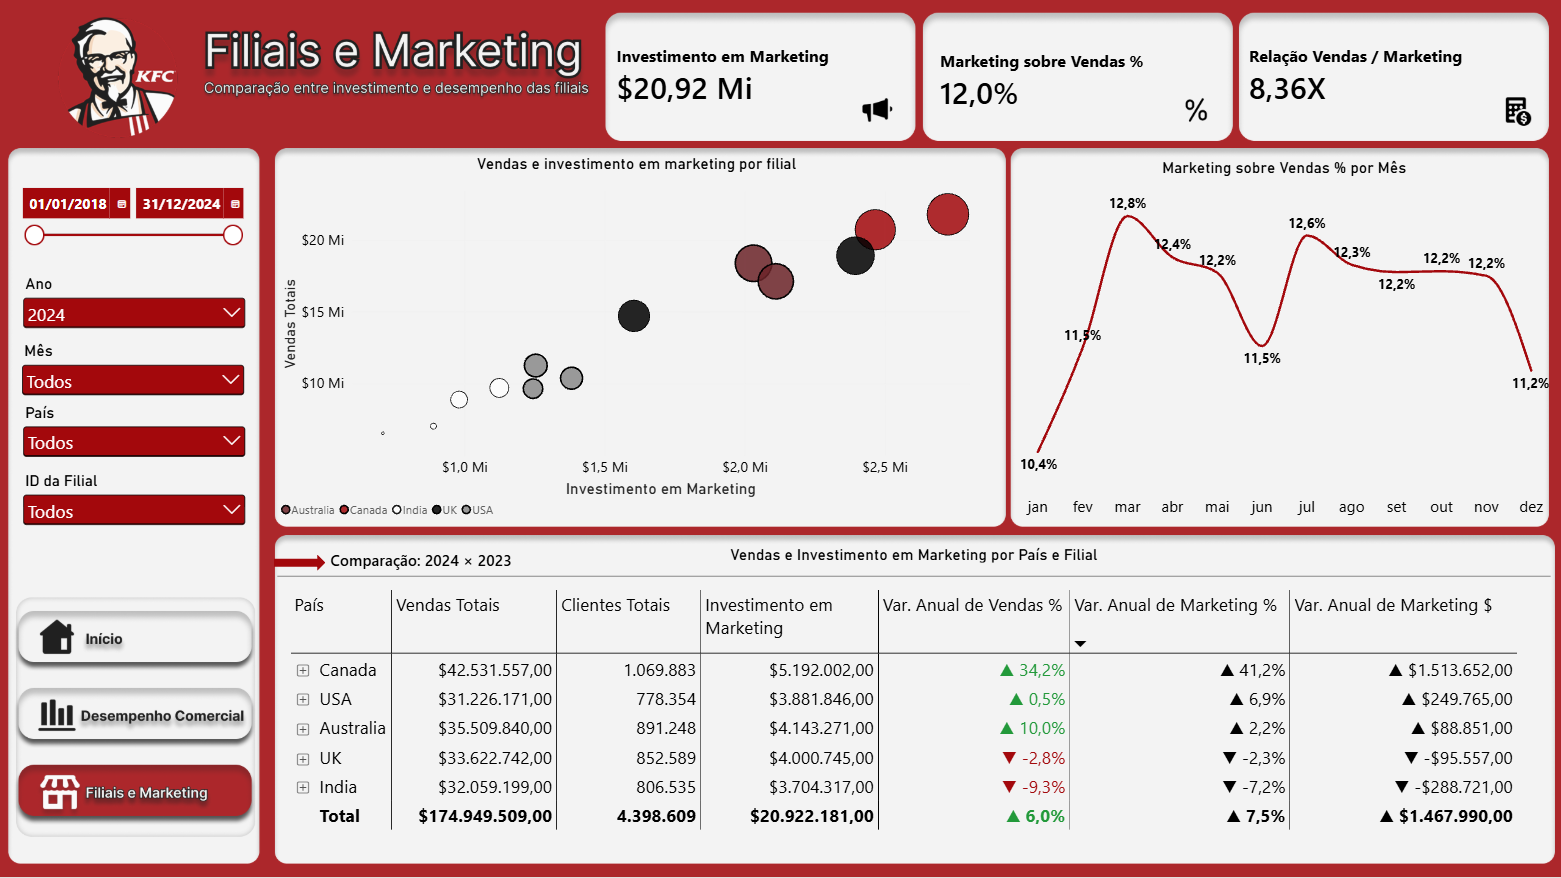

Layout of this report page (visuals, bound fields, positions):
{"tool":"powerbi","page":{"name":"Filiais e Marketing","canvas":[1920,1080],"ordinal":2},"visuals":[{"type":"scatterChart","title":"Vendas e investimento em marketing por filial","fields":{"Category":["Conjunto de dados de vendas globais do KFC (2018–2024).ID da Filial"],"Series":["Conjunto de dados de vendas globais do KFC (2018–2024).País"],"Size":["Medidas.Clientes Totais"],"X":["Medidas.Investimento em Marketing"],"Y":["Medidas.Vendas Totais"]},"box":[330.2,178.3,907.4,480.7],"z":0},{"type":"pivotTable","title":"Vendas e Investimento em Marketing por País e Filial","fields":{"Rows":["Conjunto de dados de vendas globais do KFC (2018–2024).País","Conjunto de dados de vendas globais do KFC (2018–2024).ID da Filial"],"Values":["Medidas.Vendas Totais","Medidas.Clientes Totais","Medidas.Investimento em Marketing","Medidas.Variação Anual de Vendas % - Matriz","Medidas.Variação Anual de Marketing % - Matriz","Medidas.Variação Anual de Marketing"]},"box":[342.4,657.8,1564.3,422.2],"z":1000},{"type":"cardVisual","fields":{"Data":["Medidas.Marketing sobre Vendas %"]},"box":[1139.7,19,379.9,165.1],"z":2000},{"type":"cardVisual","fields":{"Data":["Medidas.Vendas por Unidade de Marketing"]},"box":[1519.6,19,375.5,154.9],"z":3000},{"type":"areaChart","title":"Marketing sobre Vendas % por Mês ","fields":{"Category":["dCalendario.Mês Abreviado"],"Y":["Medidas.Marketing sobre Vendas %"]},"box":[1237.6,184.1,682.4,474.9],"z":4000},{"type":"slicer","fields":{"Values":["Conjunto de dados de vendas globais do KFC (2018–2024).ID da Filial"]},"box":[24,581.1,283.5,85.2],"z":5000},{"type":"slicer","fields":{"Values":["Conjunto de dados de vendas globais do KFC (2018–2024).País"]},"box":[24,497.7,283.5,83.7],"z":6000},{"type":"slicer","fields":{"Values":["dCalendario.Ano"]},"box":[24,339.3,283.5,82.3],"z":7000},{"type":"slicer","fields":{"Values":["dCalendario.Data"]},"box":[20.6,227.7,283.5,104.3],"z":8000},{"type":"cardVisual","fields":{"Data":["Medidas.Investimento em Marketing"]},"box":[742.3,13.2,388.7,165.1],"z":9000},{"type":"image","box":[1451,116.9,39.5,42.4],"z":10000},{"type":"image","box":[1844,116.9,39.5,42.4],"z":11000},{"type":"image","box":[1059.4,116.9,39.5,42.4],"z":12000},{"type":"actionButton","box":[23.3,852.8,280.9,58.2],"z":13000},{"type":"actionButton","box":[23.3,758,280.9,56.5],"z":14000},{"type":"slicer","fields":{"Values":["dCalendario.Mês Abreviado"]},"box":[22.6,421.3,283.5,82.3],"z":15000},{"type":"shape","box":[337.5,683.2,63.2,19.9],"z":15003},{"type":"cardVisual","fields":{"Data":["Medidas.Aviso de Comparação Anual - Matriz"]},"box":[390.5,655.8,536,72.7],"z":15004}]}

Visuals, with their boxes in screenshot pixels (x1, y1, x2, y2), scaled from the page's 1920x1080 canvas onto the 1561x878 screenshot:
"Vendas e investimento em marketing por filial" scatterChart: x1=268 y1=145 x2=1006 y2=536
"Vendas e Investimento em Marketing por País e Filial" pivotTable: x1=278 y1=535 x2=1550 y2=877
cardVisual - Medidas.Marketing sobre Vendas %: x1=927 y1=15 x2=1235 y2=150
cardVisual - Medidas.Vendas por Unidade de Marketing: x1=1235 y1=15 x2=1541 y2=141
"Marketing sobre Vendas % por Mês " areaChart: x1=1006 y1=150 x2=1560 y2=536
slicer - Conjunto de dados de vendas globais do KFC (2018–2024).ID da Filial: x1=20 y1=472 x2=250 y2=542
slicer - Conjunto de dados de vendas globais do KFC (2018–2024).País: x1=20 y1=405 x2=250 y2=473
slicer - dCalendario.Ano: x1=20 y1=276 x2=250 y2=343
slicer - dCalendario.Data: x1=17 y1=185 x2=247 y2=270
cardVisual - Medidas.Investimento em Marketing: x1=604 y1=11 x2=920 y2=145
image: x1=1180 y1=95 x2=1212 y2=130
image: x1=1499 y1=95 x2=1531 y2=130
image: x1=861 y1=95 x2=893 y2=130
actionButton: x1=19 y1=693 x2=247 y2=741
actionButton: x1=19 y1=616 x2=247 y2=662
slicer - dCalendario.Mês Abreviado: x1=18 y1=343 x2=249 y2=409
shape: x1=274 y1=555 x2=326 y2=572
cardVisual - Medidas.Aviso de Comparação Anual - Matriz: x1=317 y1=533 x2=753 y2=592
